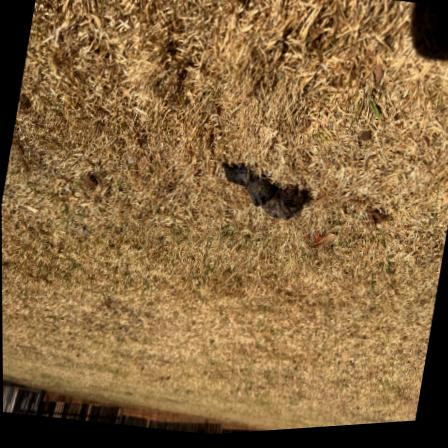dog-poop: (201, 153, 324, 243)
